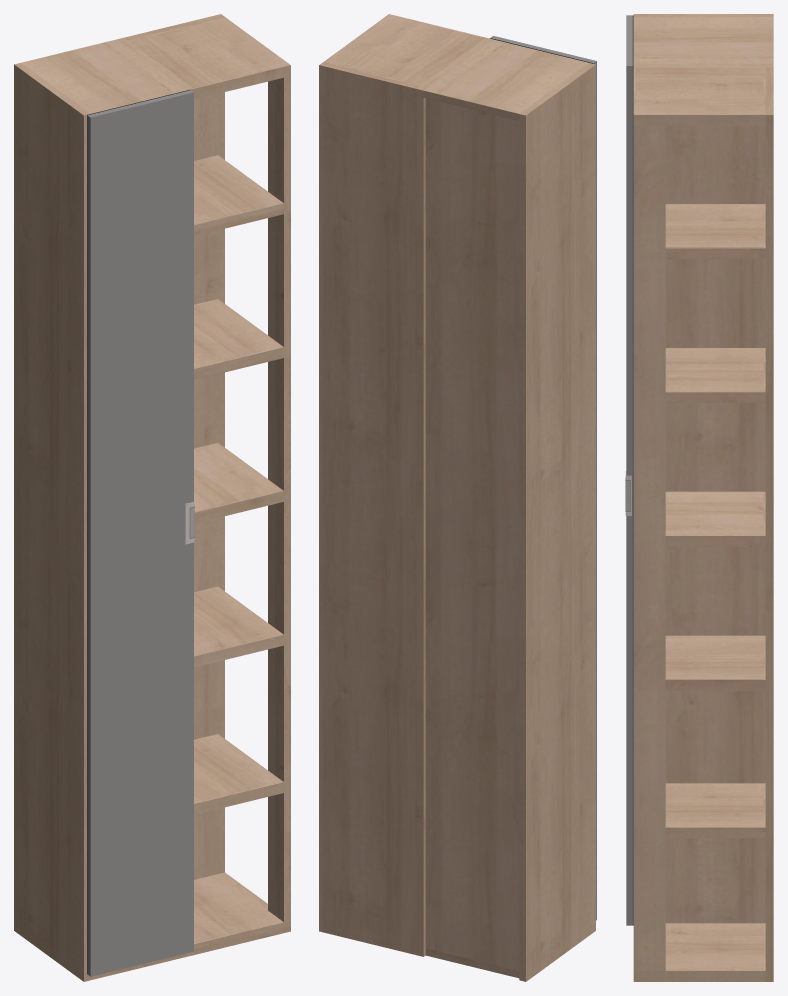
3 views of the same model, side by side, from view 1: azimuth 30°, elevation 25°; view 2: azimuth 150°, elevation 25°; view 3: azimuth 270°, elevation 25° (orthographic).
Visible parts, largest first — view 1: Mesh41_Agrupar_39_Model012, Mesh41_Agrupar_39_Model001, Mesh41_Agrupar_39_Model010, Mesh41_Agrupar_39_Model011, Mesh41_Agrupar_39_Model008, Mesh41_Agrupar_39_Model007, Mesh41_Agrupar_39_Model004, Mesh41_Agrupar_39_Model009, Mesh41_Agrupar_39_Model006, Mesh41_Agrupar_39_Model005, Mesh41_Agrupar_39_Model003, Mesh41_Agrupar_39_Model002; view 2: Mesh41_Agrupar_39_Model001, Mesh41_Agrupar_39_Model008, Mesh41_Agrupar_39_Model011, Mesh41_Agrupar_39_Model012; view 3: Mesh41_Agrupar_39_Model001, Mesh41_Agrupar_39_Model010, Mesh41_Agrupar_39_Model011, Mesh41_Agrupar_39_Model008, Mesh41_Agrupar_39_Model007, Mesh41_Agrupar_39_Model012, Mesh41_Agrupar_39_Model009, Mesh41_Agrupar_39_Model006, Mesh41_Agrupar_39_Model005, Mesh41_Agrupar_39_Model004, Mesh41_Agrupar_39_Model003, Mesh41_Agrupar_39_Model002.
Part boxes in pixels (left/top/right/bottom): Mesh41_Agrupar_39_Model012: left=87, top=90, right=193, bottom=976; Mesh41_Agrupar_39_Model001: left=14, top=14, right=224, bottom=981; Mesh41_Agrupar_39_Model010: left=268, top=76, right=290, bottom=922; Mesh41_Agrupar_39_Model011: left=128, top=17, right=290, bottom=99; Mesh41_Agrupar_39_Model008: left=21, top=39, right=185, bottom=113; Mesh41_Agrupar_39_Model007: left=193, top=872, right=290, bottom=955; Mesh41_Agrupar_39_Model004: left=194, top=586, right=283, bottom=667; Mesh41_Agrupar_39_Model009: left=194, top=443, right=283, bottom=523; Mesh41_Agrupar_39_Model006: left=194, top=155, right=283, bottom=235; Mesh41_Agrupar_39_Model005: left=194, top=734, right=283, bottom=814; Mesh41_Agrupar_39_Model003: left=194, top=299, right=283, bottom=379; Mesh41_Agrupar_39_Model002: left=87, top=89, right=190, bottom=973; Mesh41_Agrupar_39_Model001: left=319, top=38, right=595, bottom=981; Mesh41_Agrupar_39_Model008: left=423, top=39, right=588, bottom=970; Mesh41_Agrupar_39_Model011: left=323, top=14, right=486, bottom=85; Mesh41_Agrupar_39_Model012: left=490, top=36, right=596, bottom=920; Mesh41_Agrupar_39_Model001: left=633, top=14, right=773, bottom=981; Mesh41_Agrupar_39_Model010: left=633, top=126, right=665, bottom=970; Mesh41_Agrupar_39_Model011: left=633, top=67, right=765, bottom=125; Mesh41_Agrupar_39_Model008: left=633, top=17, right=773, bottom=63; Mesh41_Agrupar_39_Model007: left=633, top=923, right=765, bottom=981; Mesh41_Agrupar_39_Model012: left=626, top=15, right=632, bottom=925; Mesh41_Agrupar_39_Model009: left=665, top=491, right=765, bottom=546; Mesh41_Agrupar_39_Model006: left=665, top=204, right=765, bottom=259; Mesh41_Agrupar_39_Model005: left=665, top=783, right=765, bottom=838; Mesh41_Agrupar_39_Model004: left=665, top=635, right=765, bottom=690; Mesh41_Agrupar_39_Model003: left=665, top=348, right=765, bottom=402; Mesh41_Agrupar_39_Model002: left=632, top=15, right=633, bottom=925.
Size of the model in its own units: 1.2 by 4.8 by 0.7442.
15 materials, 12 textured.
